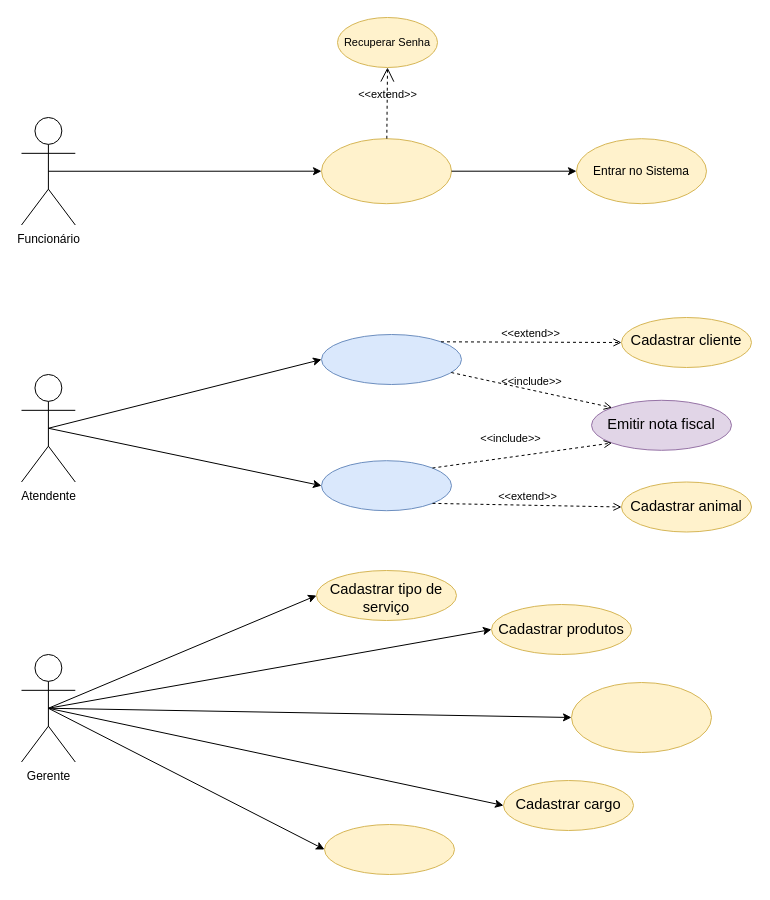
Image size: 770x900. Some labels were removed from this diagram. Each missing label, with the centre of its shape:
Cadastrar funcionários: (x=389, y=849)
Fazer Login: (x=386, y=171)
Gerar Relatório: (x=641, y=717)
Realizar serviço: (x=386, y=485)
Realizar venda: (x=391, y=359)
